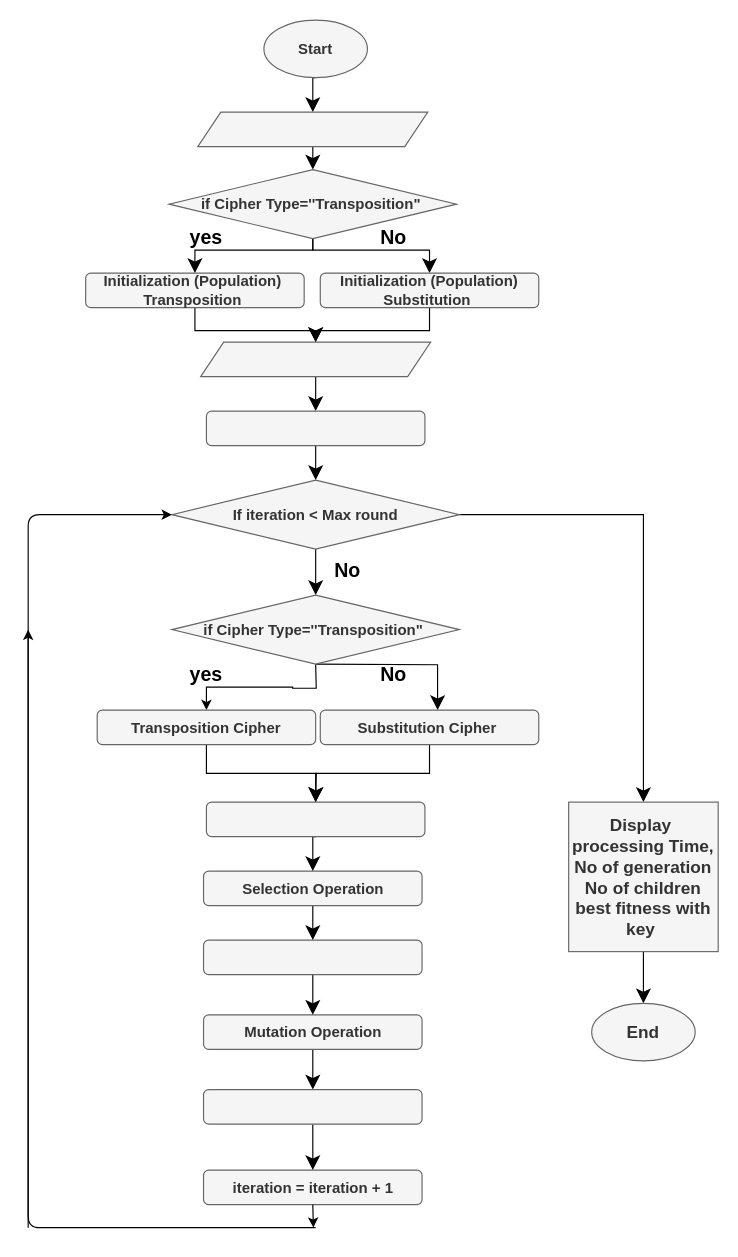
This 738x1257 diagram has some shape labels left out. The centre of each missing label's shape, as x and y in pixels:
CrossOver Operation: the point at 312,957
Evaluation Fitness: the point at 315,819
input CipherText: the point at 312,129
input N Max round =N: the point at 315,359
iteration = 0: the point at 315,428
Replacement Operation: the point at 312,1106
